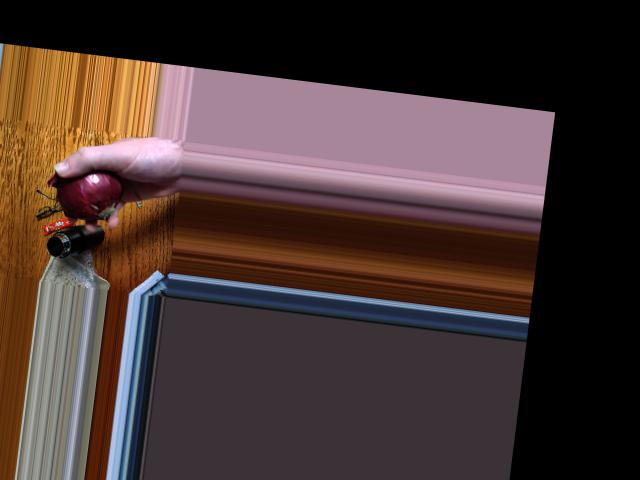onion: (55, 162, 120, 217)
